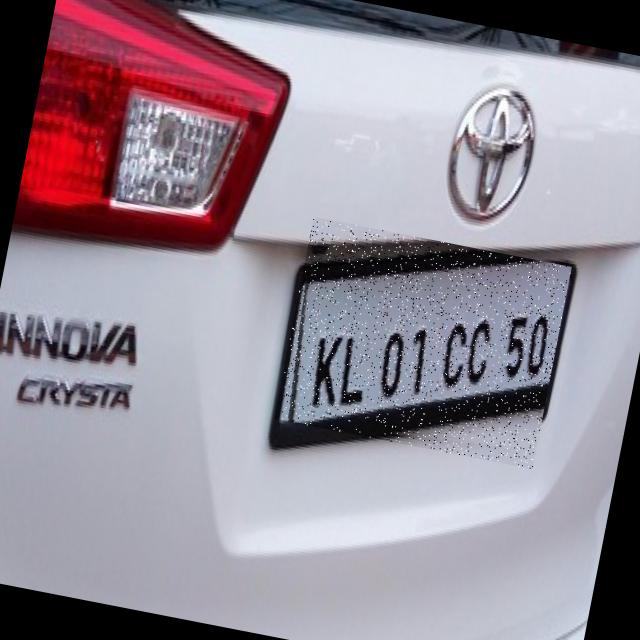Plate: (276, 218, 573, 470)
